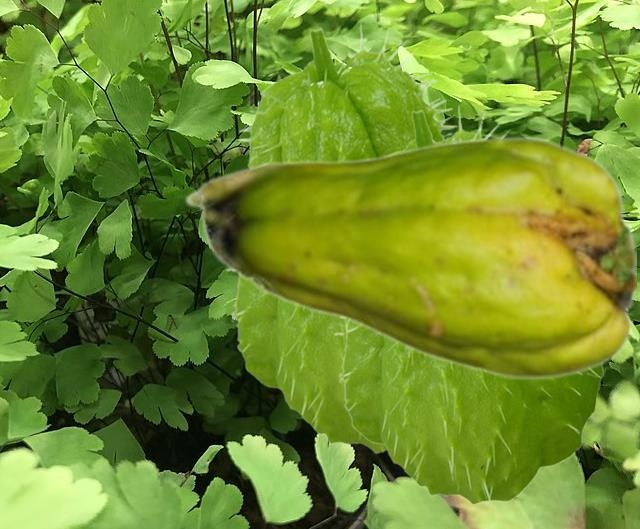sayote: (183, 135, 635, 380), (333, 104, 606, 504), (225, 22, 456, 453)
